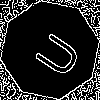U: (25, 25, 84, 81)
